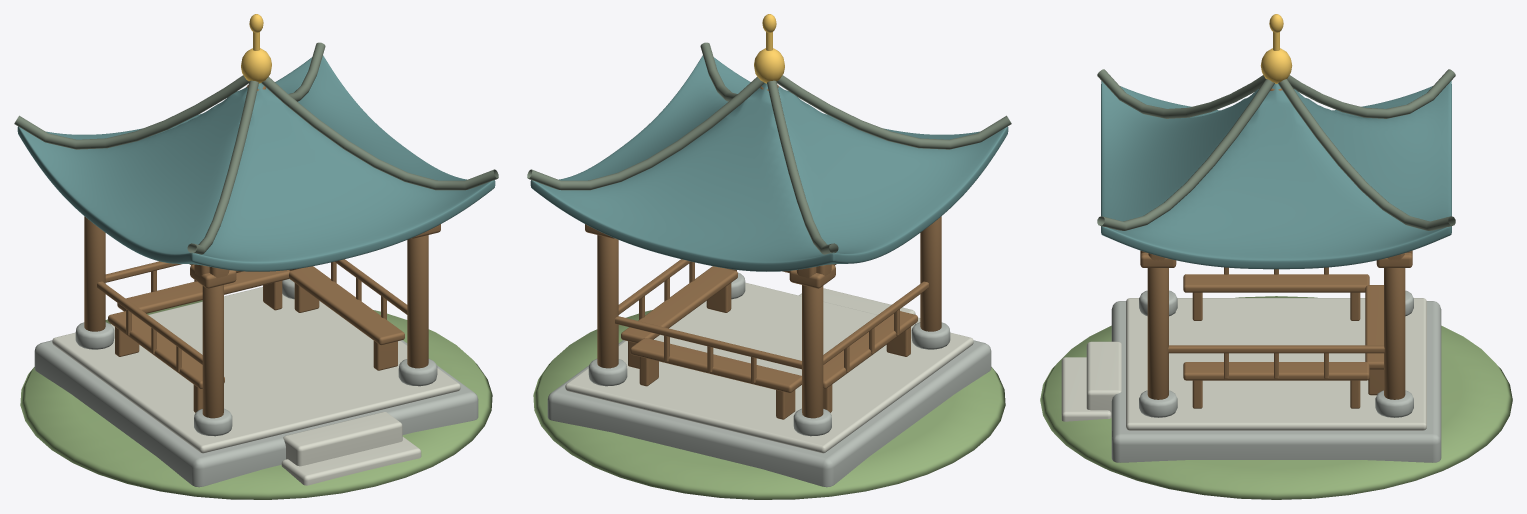
The model's file is decor-wooden-pavilion.glb.
The picture shows the model from 3 angles, left to right: view 1: azimuth 30°, elevation 25°; view 2: azimuth 150°, elevation 25°; view 3: azimuth 270°, elevation 25°; orthographic projection.
Visible parts, largest first — view 1: wooden-pavilion-tile.001, wooden-pavilion-lightstone.001, wooden-pavilion-wood.001, wooden-pavilion-moss.001, wooden-pavilion-stone.001, wooden-pavilion-bronze.001, wooden-pavilion-gold.001; view 2: wooden-pavilion-tile.001, wooden-pavilion-lightstone.001, wooden-pavilion-wood.001, wooden-pavilion-moss.001, wooden-pavilion-stone.001, wooden-pavilion-bronze.001, wooden-pavilion-gold.001; view 3: wooden-pavilion-tile.001, wooden-pavilion-lightstone.001, wooden-pavilion-moss.001, wooden-pavilion-wood.001, wooden-pavilion-stone.001, wooden-pavilion-bronze.001, wooden-pavilion-gold.001.
Part boxes in pixels (x1,y1,x2,y2): wooden-pavilion-tile.001: (17,55,495,271); wooden-pavilion-lightstone.001: (52,287,460,485); wooden-pavilion-wood.001: (84,84,440,418); wooden-pavilion-moss.001: (20,300,492,499); wooden-pavilion-stone.001: (34,279,478,487); wooden-pavilion-bronze.001: (14,42,498,254); wooden-pavilion-gold.001: (241,14,271,83); wooden-pavilion-tile.001: (530,55,1008,271); wooden-pavilion-lightstone.001: (565,282,973,453); wooden-pavilion-wood.001: (585,84,941,419); wooden-pavilion-moss.001: (533,310,1005,499); wooden-pavilion-stone.001: (547,272,991,487); wooden-pavilion-bronze.001: (527,42,1011,254); wooden-pavilion-gold.001: (754,14,784,83); wooden-pavilion-tile.001: (1101,81,1451,269); wooden-pavilion-lightstone.001: (1061,298,1426,430); wooden-pavilion-moss.001: (1040,296,1512,499); wooden-pavilion-wood.001: (1140,88,1412,408); wooden-pavilion-stone.001: (1111,290,1441,462); wooden-pavilion-bronze.001: (1097,69,1455,230); wooden-pavilion-gold.001: (1260,14,1292,83).
Bounding box in the file's own units: 6.6 × 5.94 × 6.6.
